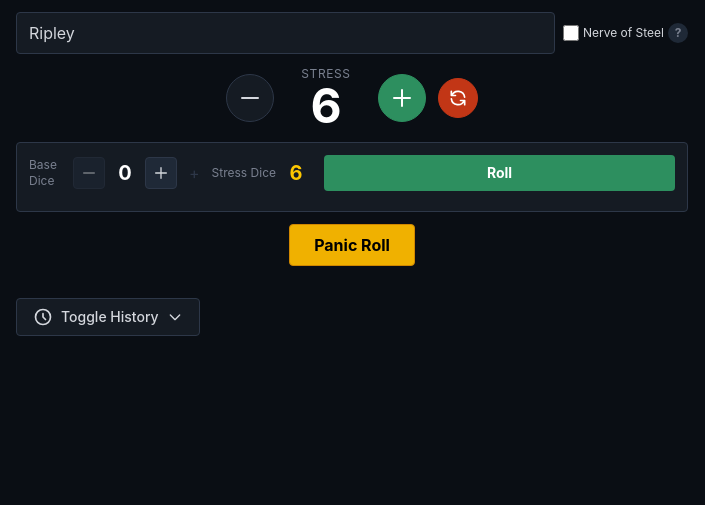
Test case: StressTracker › displays alert zone for other stress change
Click the button with aria-label "Panic Roll".
click(352, 245)  # box [289, 224, 415, 266]
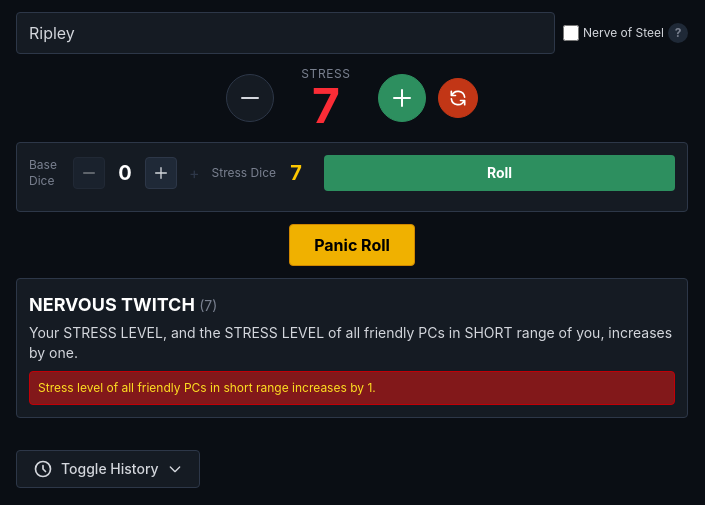
Now the text "Stress level of all friendly PCs in short range increases by 1." is shown, box [29, 371, 675, 405]
